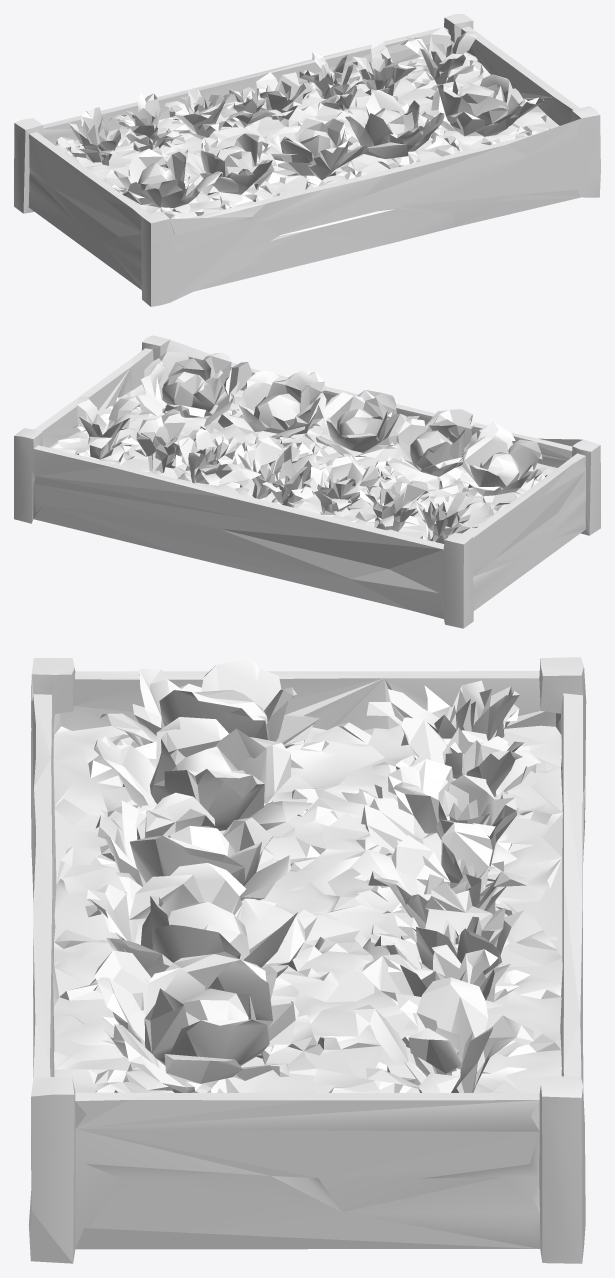
File: veg_bed.glb
The picture shows the model from 3 angles, top to bottom: view 1: azimuth 30°, elevation 25°; view 2: azimuth 150°, elevation 25°; view 3: azimuth 270°, elevation 25°; orthographic projection. The views are drawn at different scales.
Visible parts, largest first — view 1: Mesh_0; view 2: Mesh_0; view 3: Mesh_0.
Boxes of the visible parts, left/top/right/bottom form: Mesh_0: left=14, top=14, right=600, bottom=306; Mesh_0: left=14, top=335, right=600, bottom=628; Mesh_0: left=28, top=657, right=586, bottom=1263.
Bounding box in the file's own units: 2.4 × 0.5335 × 1.28.
Materials: 1 (1 with a texture image).
